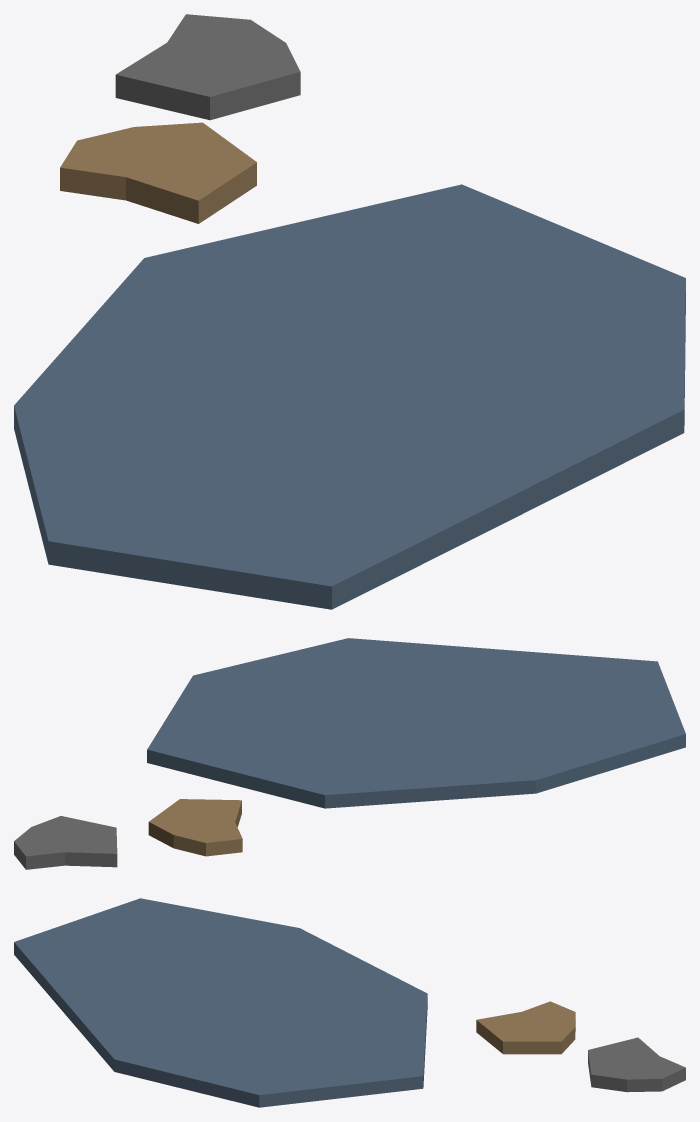
Rendered from AW_Stone04.fbx.
3 views of the same model, one above another, from view 1: azimuth 30°, elevation 25°; view 2: azimuth 150°, elevation 25°; view 3: azimuth 270°, elevation 25° (orthographic). The views are drawn at different scales.
Visible parts, largest first — view 1: AW_Stone04; view 2: AW_Stone04; view 3: AW_Stone04.
Boxes of the visible parts, x1,y1,x2,y2 form: AW_Stone04: (14, 14, 685, 609); AW_Stone04: (14, 638, 685, 869); AW_Stone04: (14, 898, 685, 1107).
Bounding box in the file's own units: 64.77 × 1.93 × 93.44.
1 material, 1 textured.
